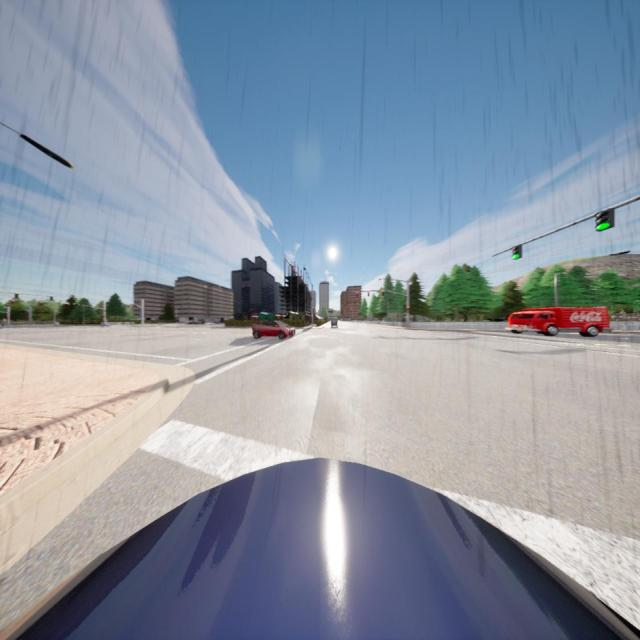Vehicle: (2, 456, 640, 640), (505, 306, 609, 336), (252, 319, 296, 340), (331, 319, 338, 328)
traffic_light: (596, 209, 614, 231), (512, 245, 522, 260), (292, 266, 295, 275), (299, 277, 302, 284), (407, 307, 410, 312), (382, 290, 384, 296), (356, 292, 358, 296), (368, 292, 369, 296)
